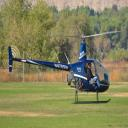helicopter: (4, 31, 125, 105)
